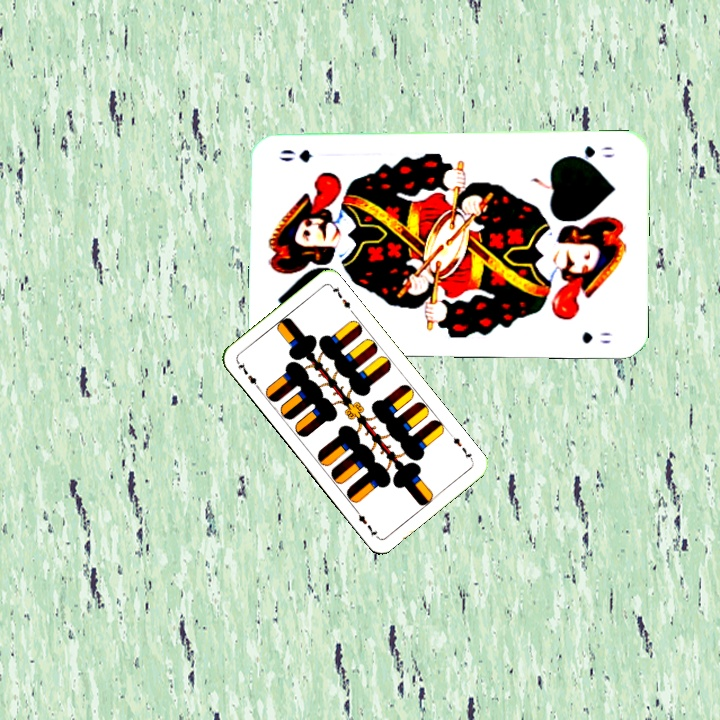E7: (233, 358, 263, 393), (449, 433, 475, 464)
GO: (564, 142, 617, 164)
